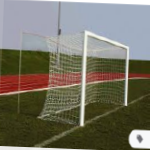goals: (37, 29, 132, 128)
